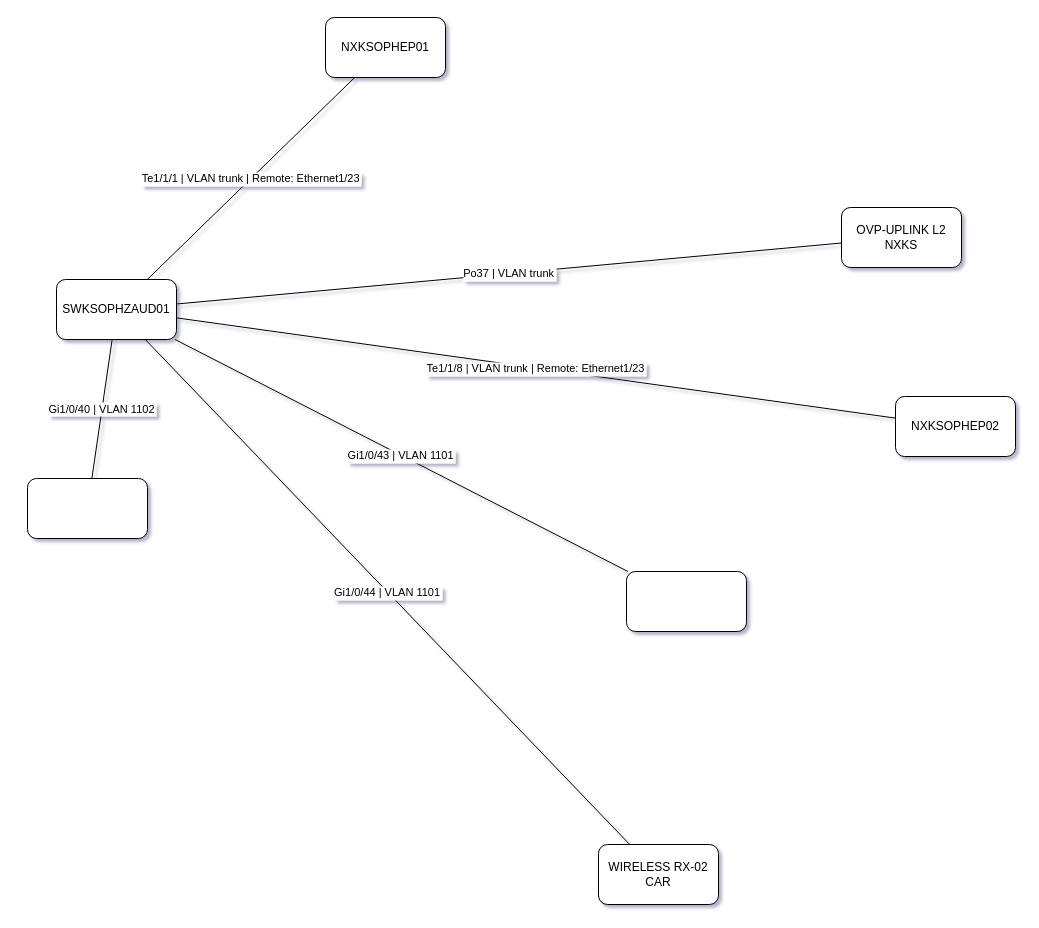
This 1039x928 diagram has some shape labels left out. The shapes that lost their labels are listed below. From the top down, each one's box as (x1, y1, x2, y2) in pixels, then its label:
(26, 478, 148, 538): ANTENNA_TRANCEIVER
(626, 570, 746, 632): WIRELESS RX-01 CAR
